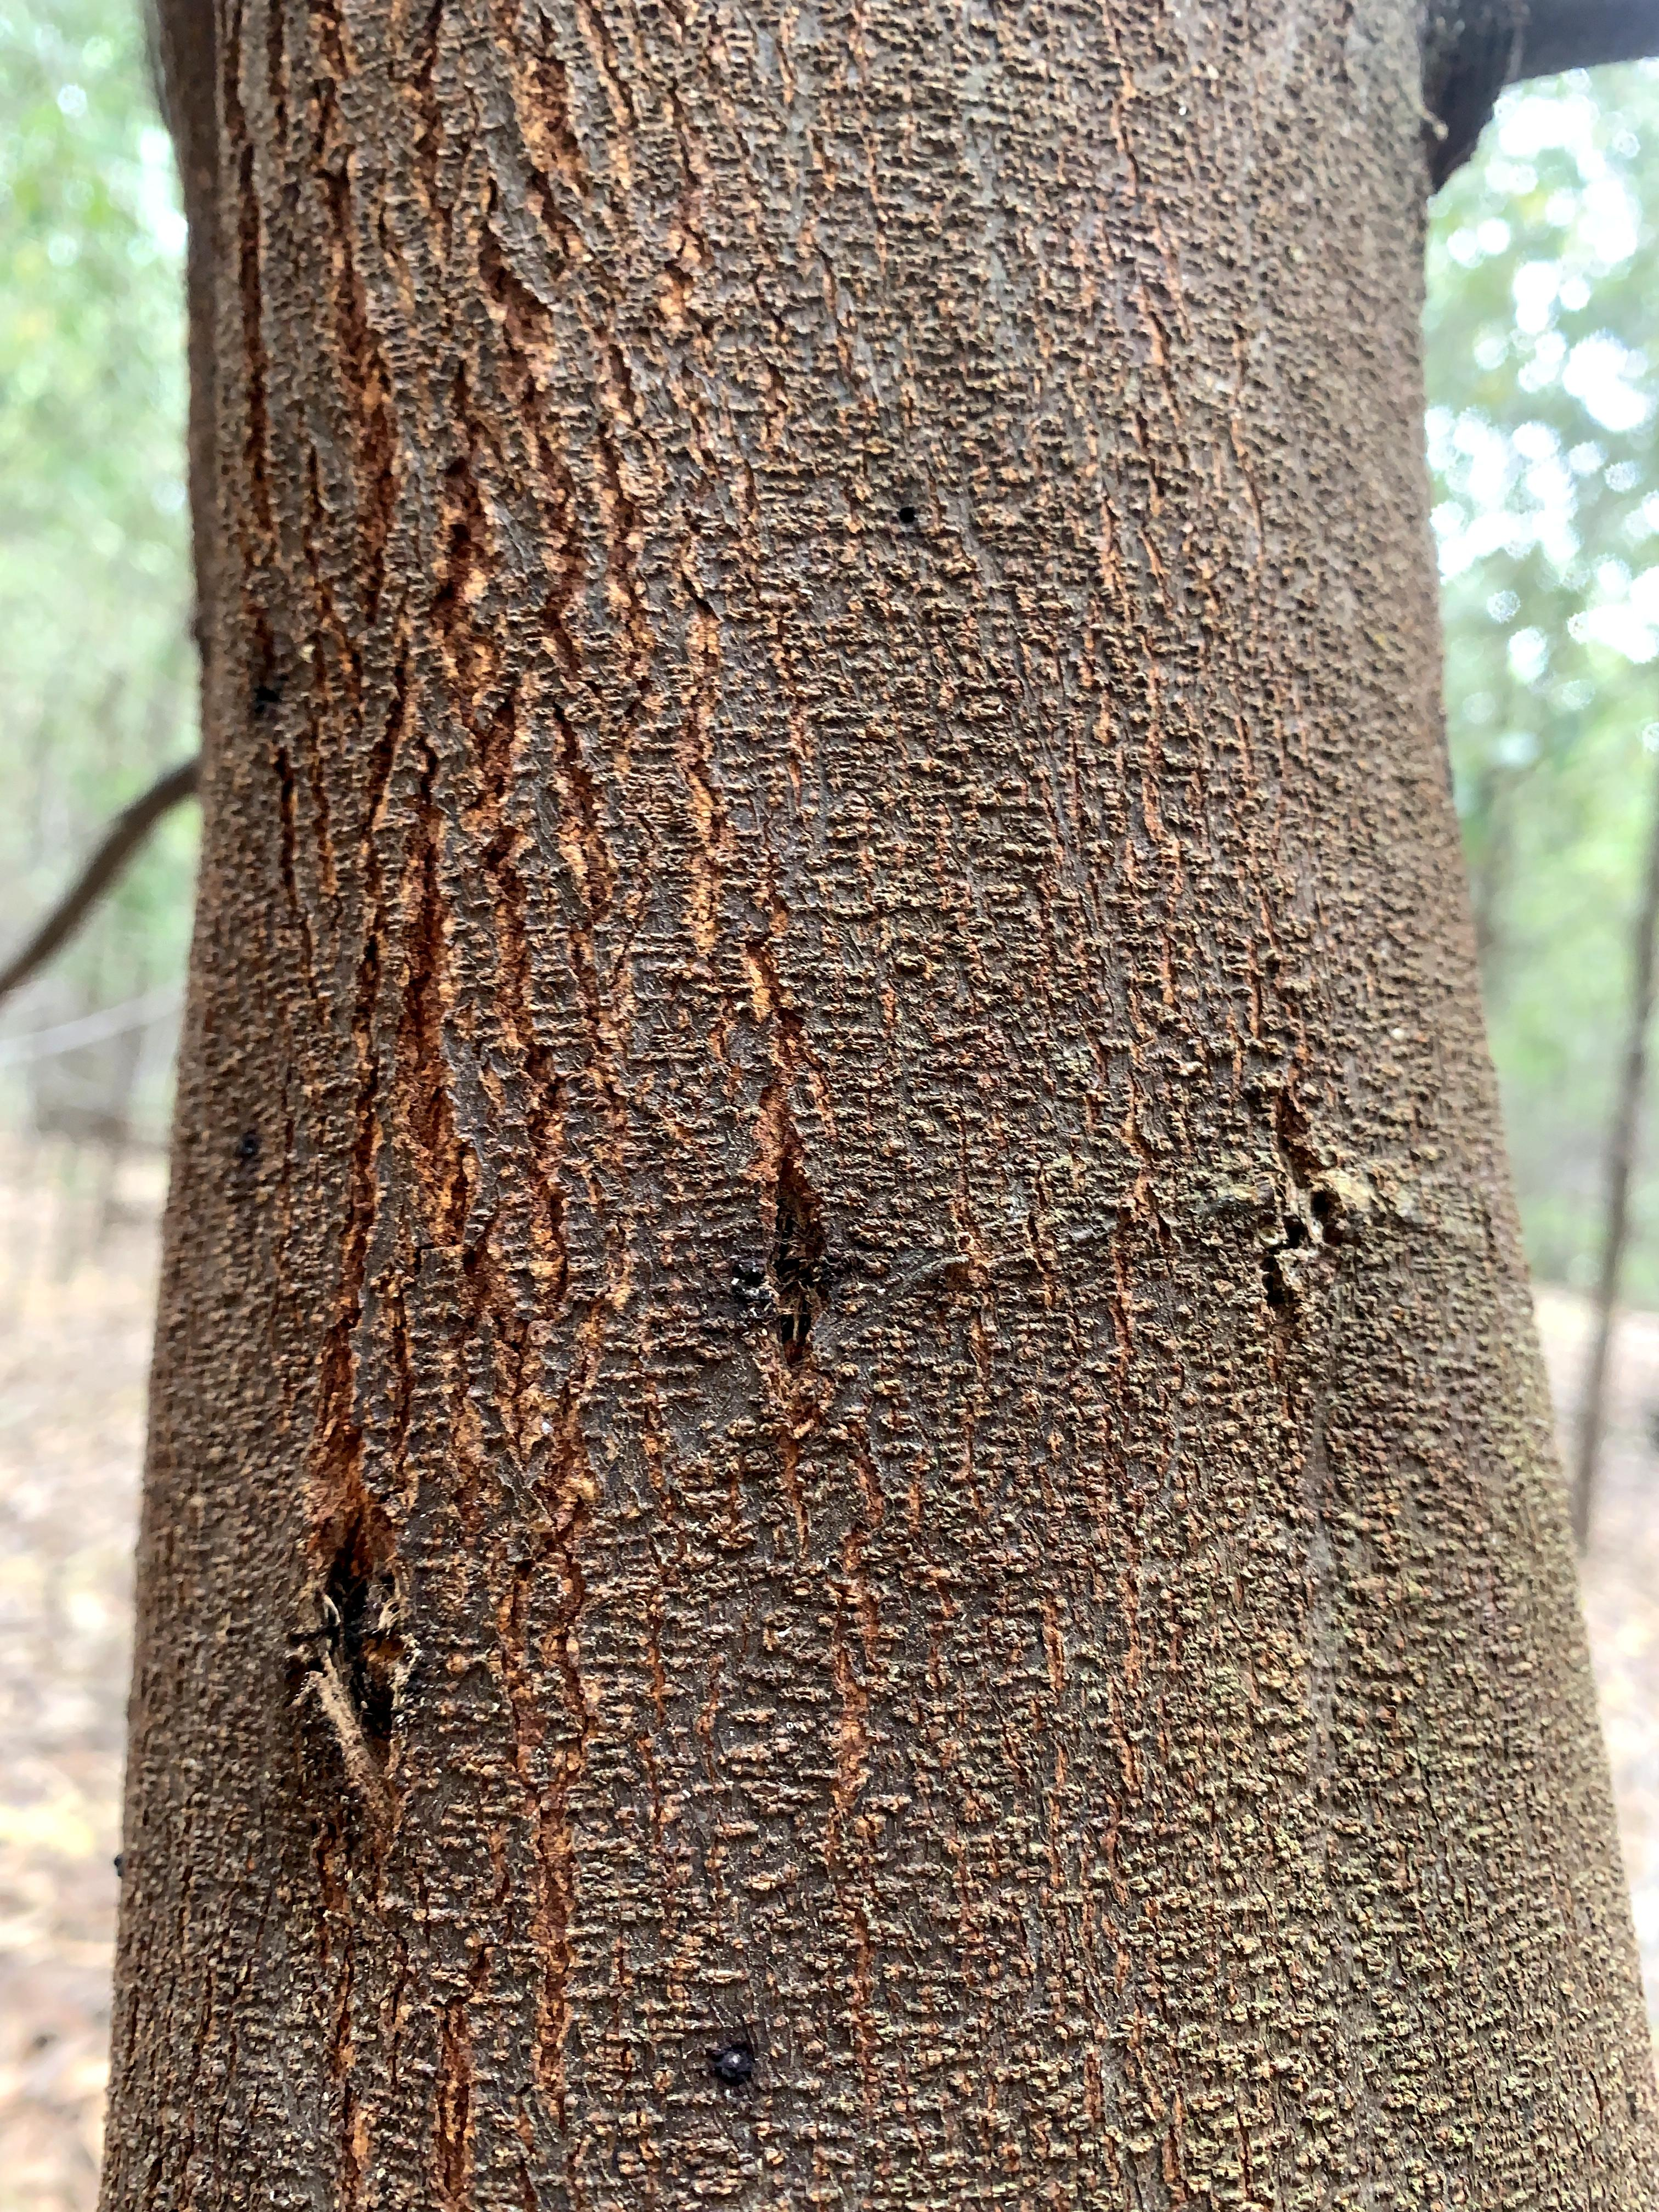Stem Borer: (676, 1054, 938, 1430), (270, 1467, 516, 1860), (209, 550, 345, 798)
